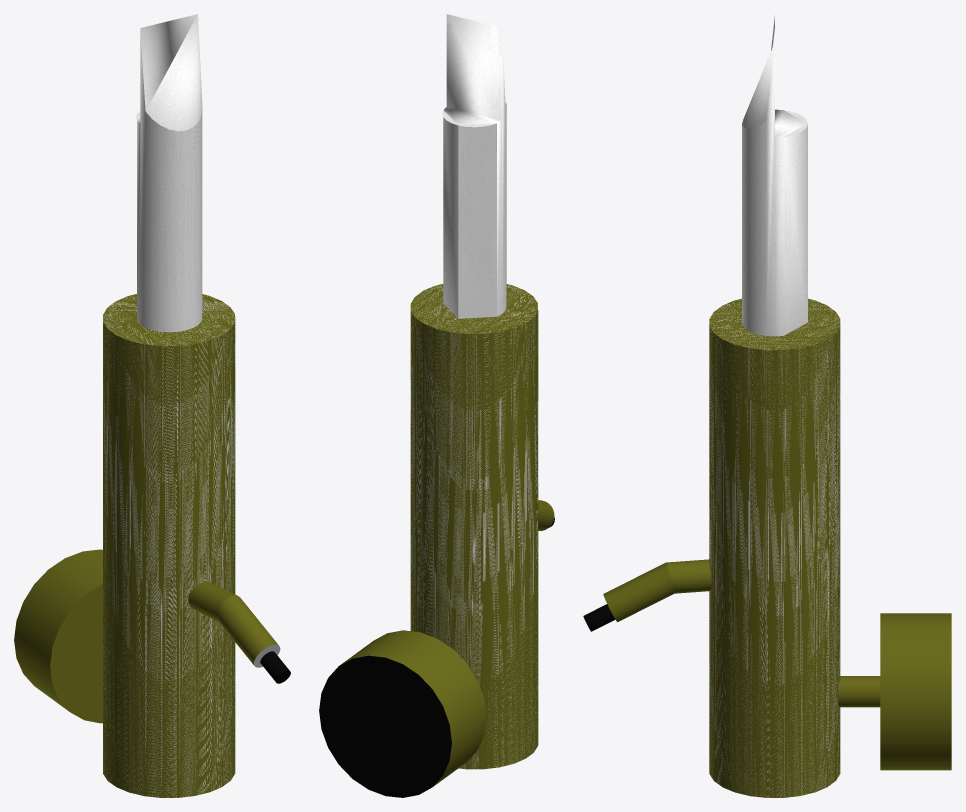
Rendered from jackhammer.dae.
3 views of the same model, side by side, from view 1: azimuth 30°, elevation 25°; view 2: azimuth 150°, elevation 25°; view 3: azimuth 270°, elevation 25° (orthographic). The views are drawn at different scales.
Visible parts, largest first — view 1: SketchUp (×5); view 2: SketchUp (×4); view 3: SketchUp (×5).
Boxes of the visible parts, x1,y1,x2,y2 form: SketchUp (×5): (14, 14, 290, 797); SketchUp (×4): (319, 14, 538, 797); SketchUp (×5): (603, 15, 951, 797).
Size of the model in its own units: 47.05 by 110 by 244.
